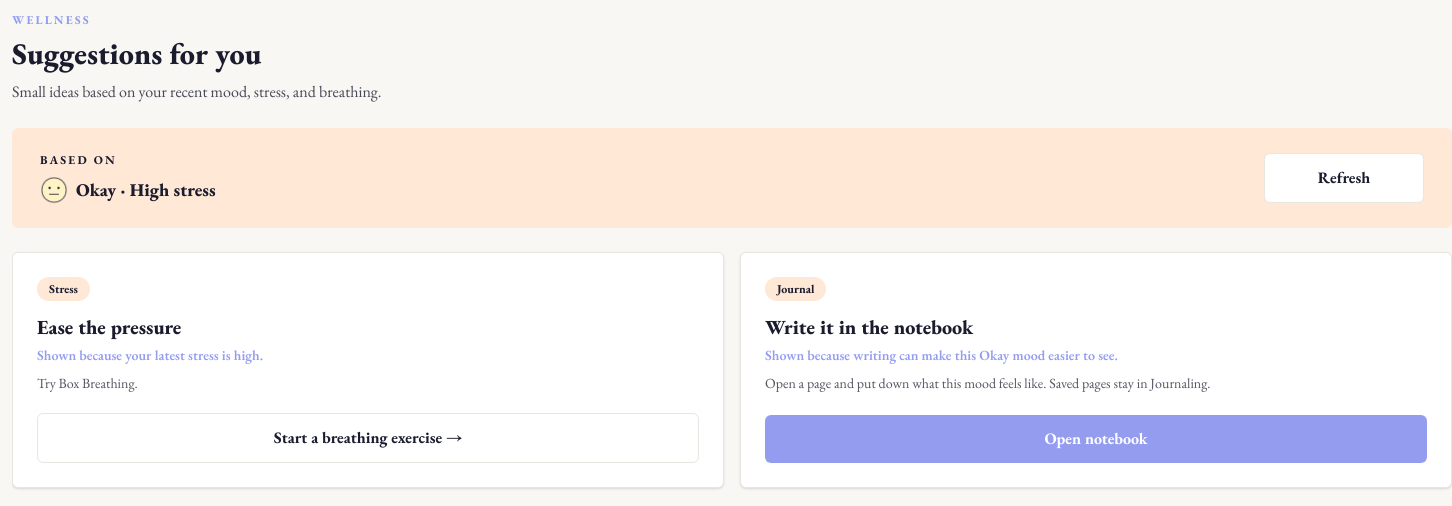
Scenario: Suggestions › replaces the suggestions on refresh
This screenshot has width=1452, height=506.
Expected: the heading "Ease the pressure" is shown, [37,314,181,340]
Click the button "Refresh" at (1344, 178), box [1264,153,1424,203]
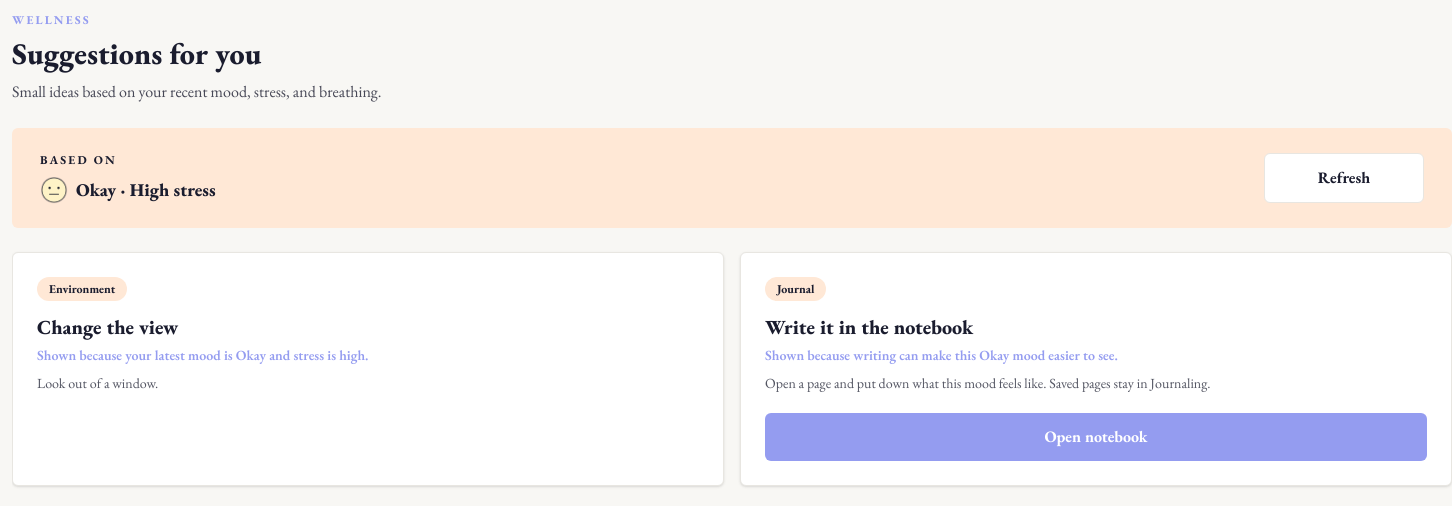
Result: the heading "Change the view" is shown at [37,314,178,340]
Result: the heading "Ease the pressure" is gone
